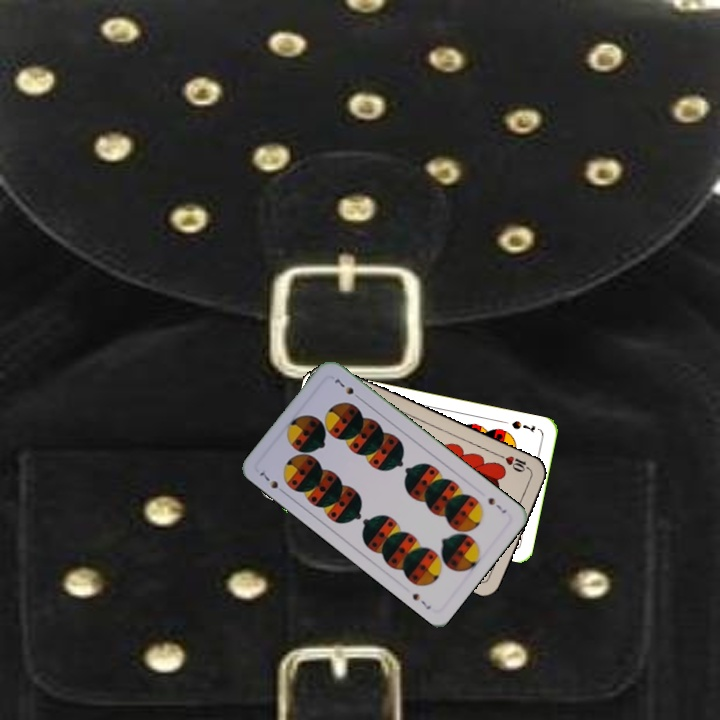H10: (495, 451, 534, 475)
S7: (256, 468, 288, 497), (484, 493, 509, 516), (507, 417, 538, 435)
